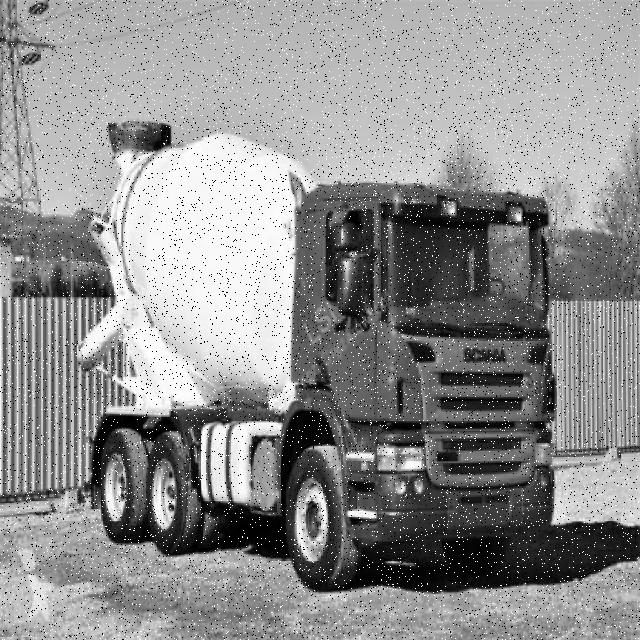Concrete Mixer: (76, 121, 558, 595)
